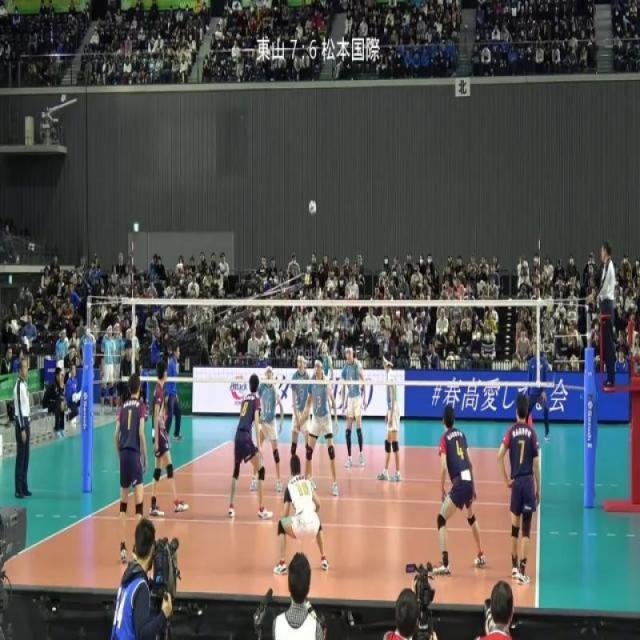volleyball: (308, 199, 317, 215)
